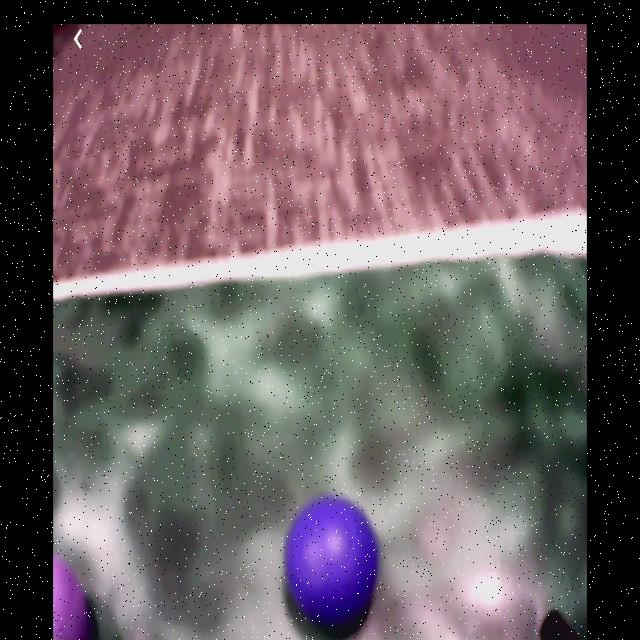ball: (287, 498, 378, 629), (55, 560, 90, 640)
